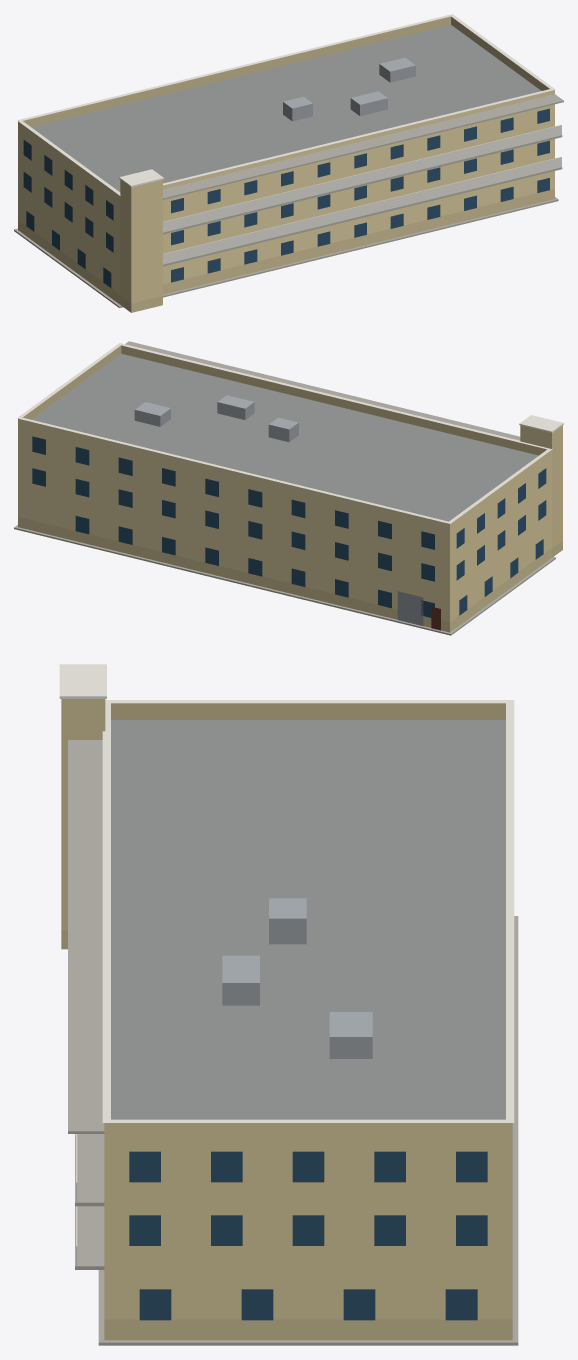
Rendered from lodge_44x18_3f_lod1.glb.
3 renders of one model, top to bottom at view 1: azimuth 30°, elevation 25°; view 2: azimuth 150°, elevation 25°; view 3: azimuth 270°, elevation 25°, orthographic. The views are drawn at different scales.
Parts seen in each view (by area): view 1: block; view 2: block; view 3: block.
Boxes of the visible parts, x1,y1,x2,y2 form: block: [14, 14, 563, 312]; block: [14, 341, 563, 635]; block: [59, 664, 518, 1345].
Size of the model in its own units: 44.5 by 12.49 by 20.22.
